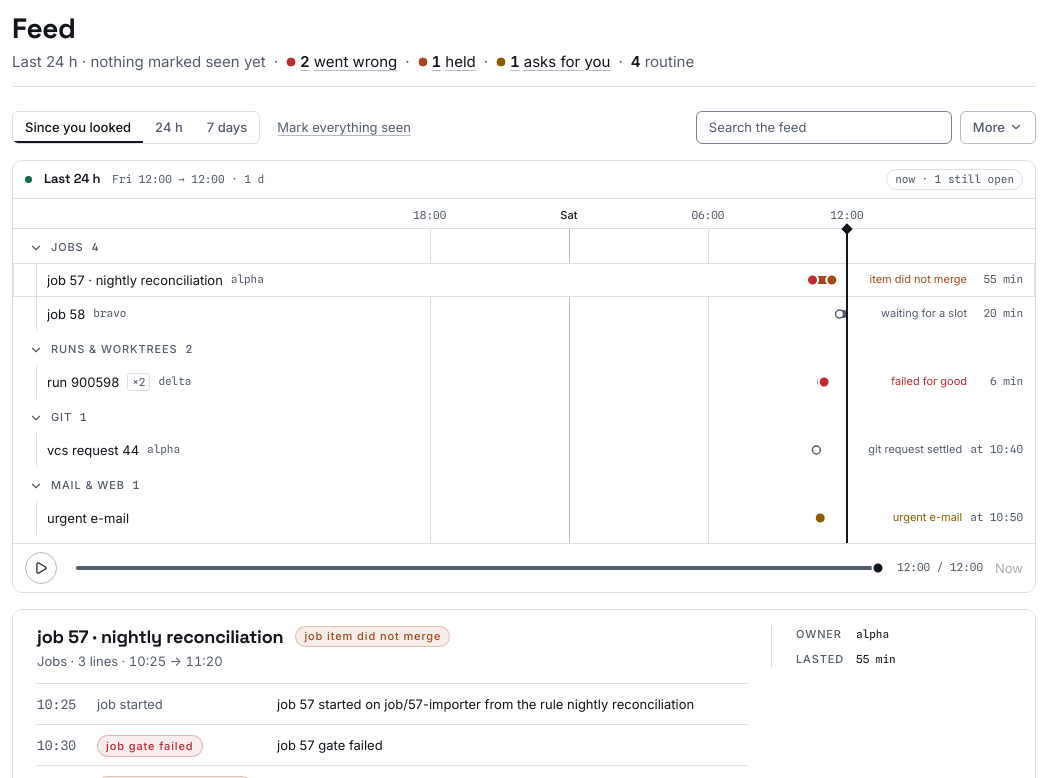
Test: Feed - the trace draws sequences, not lines › clicking a lane collapses its rows and clicking again opens them
What coordinates should you click on to do the following:
click the button with aria-label "Jobs, 4 lines"
I would click on:
 (67, 247)
Its box is left=25, top=235, right=291, bottom=261.
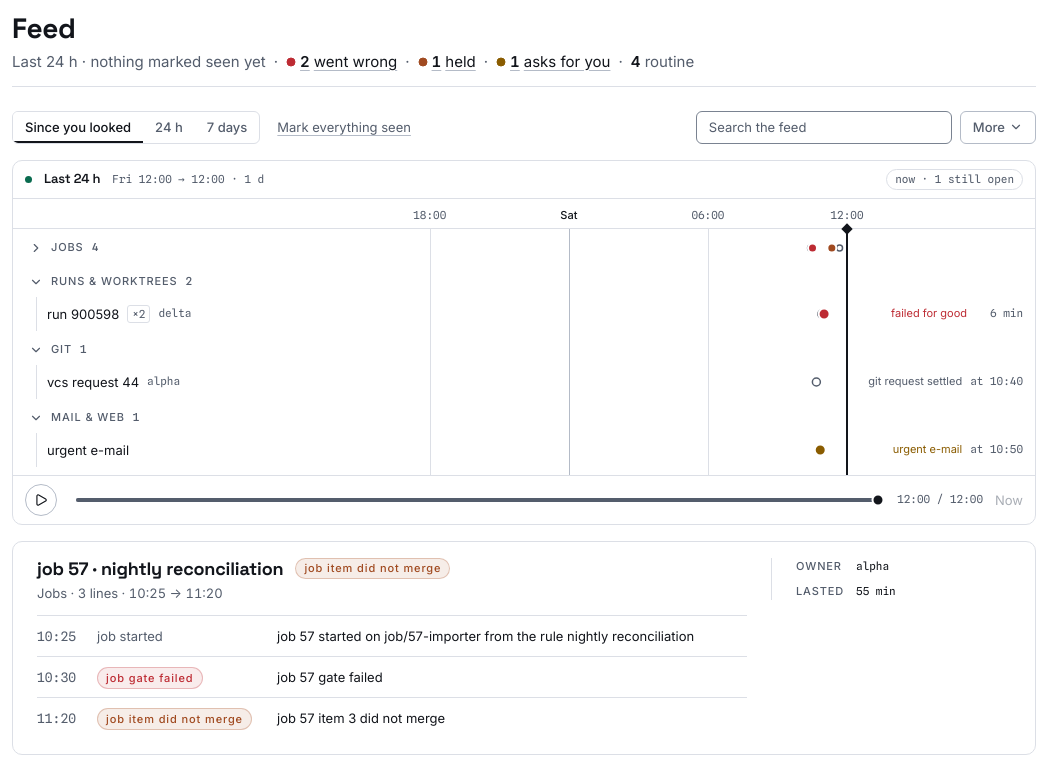
Expected: the button "vcs request 44 alpha" is shown, left=25, top=369, right=291, bottom=395
Expected: the button with aria-label "Jobs, 4 lines" is collapsed
What coordinates should you click on to do the following:
click the button with aria-label "Jobs, 4 lines"
I would click on:
 (67, 247)
Its box is left=25, top=235, right=291, bottom=261.
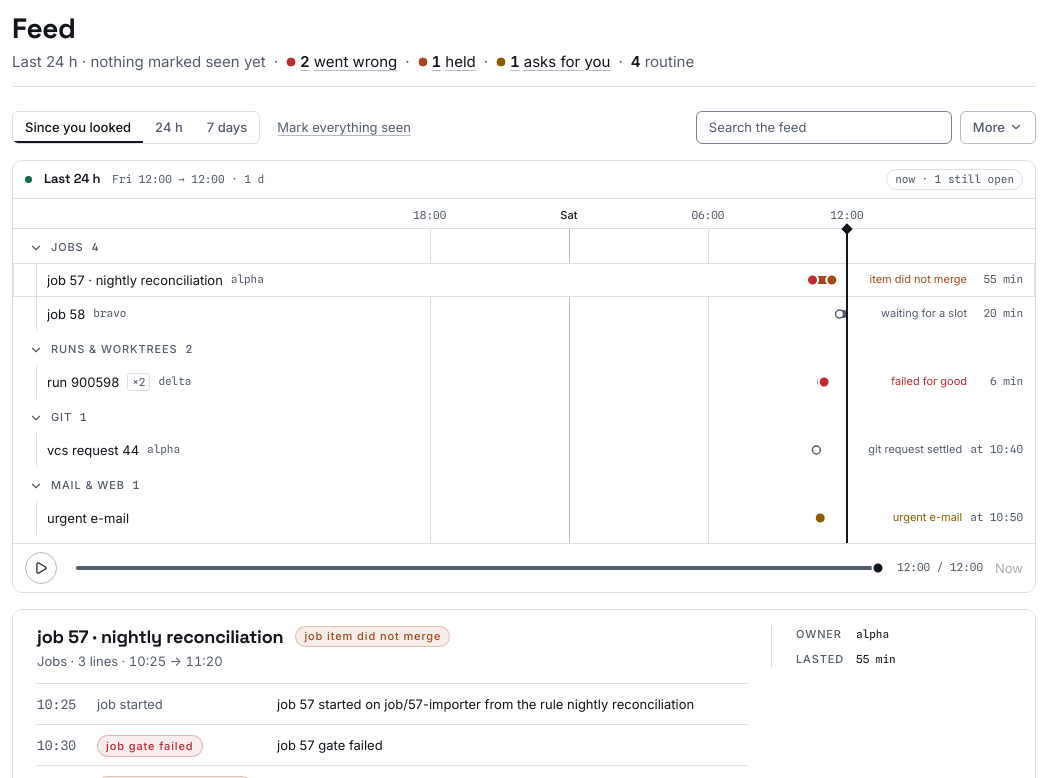
Expected: the button "job 57 · nightly reconciliation alpha" is shown, left=25, top=267, right=291, bottom=293
